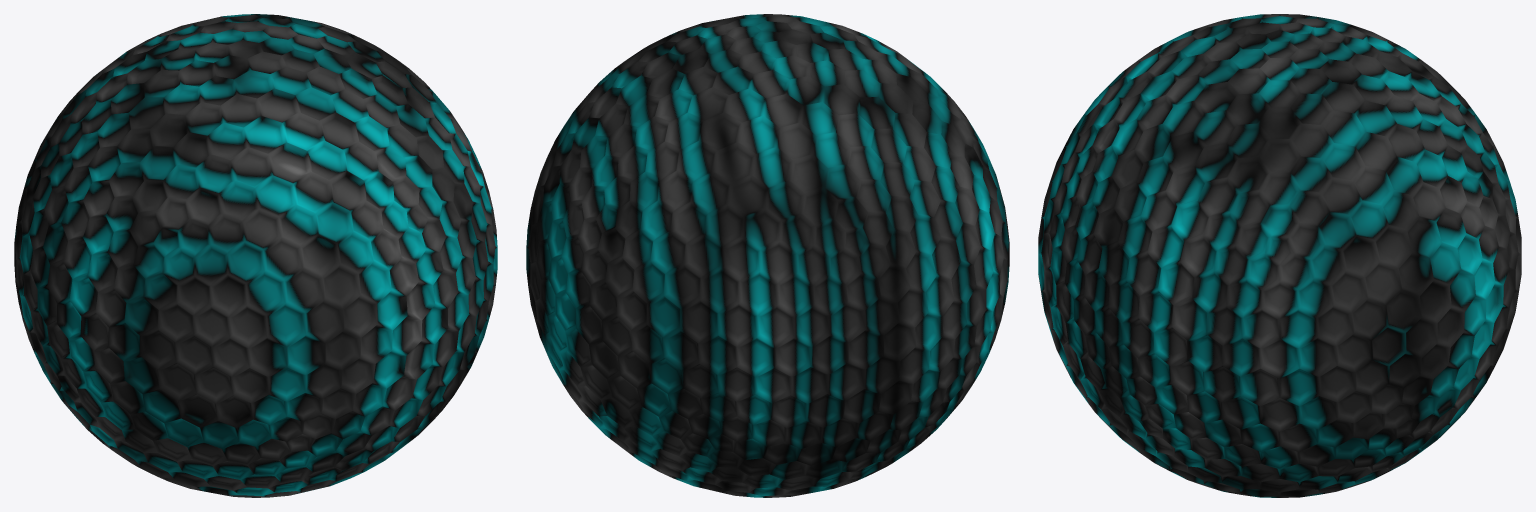
Rendered from AirBendBall.fbx.
The picture shows the model from 3 angles, left to right: view 1: azimuth 30°, elevation 25°; view 2: azimuth 150°, elevation 25°; view 3: azimuth 270°, elevation 25°; orthographic projection.
Parts seen in each view (by area): view 1: GolfBall; view 2: GolfBall; view 3: GolfBall.
Part boxes in pixels (x1,y1,x2,y2): GolfBall: (14,14,497,497); GolfBall: (526,14,1009,497); GolfBall: (1038,14,1521,497).
Size of the model in its own units: 37.86 by 38 by 37.87.
